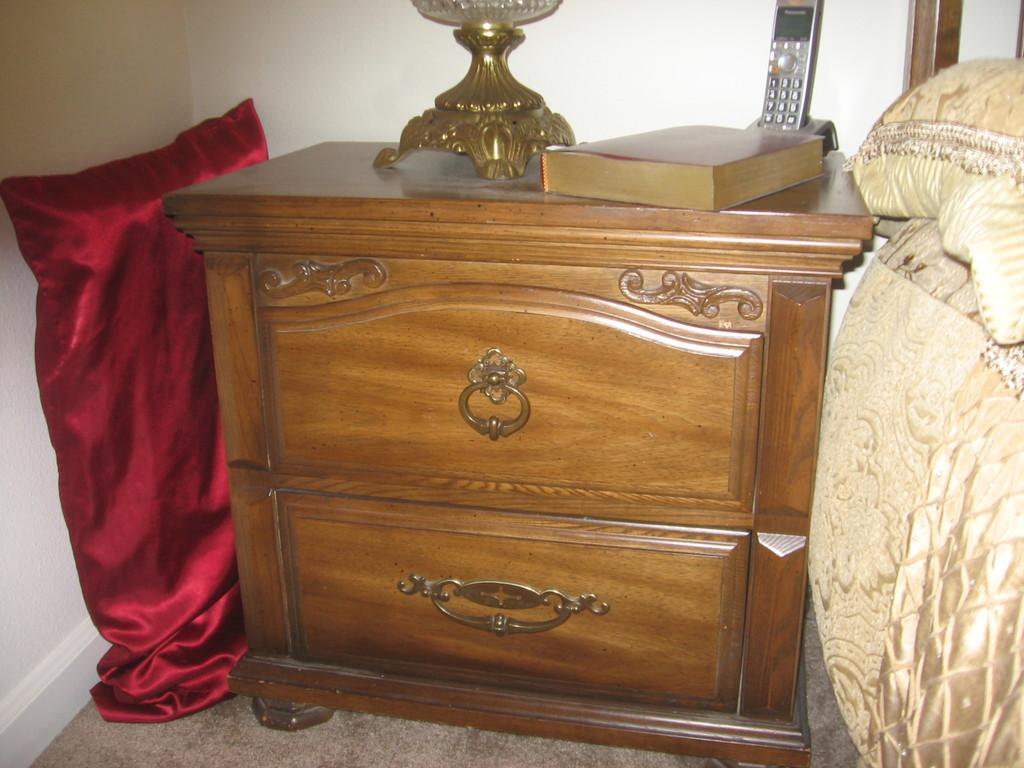cabinet_door: (284, 478, 742, 719), (258, 319, 754, 511)
handle: (424, 578, 590, 642), (452, 372, 542, 440)
